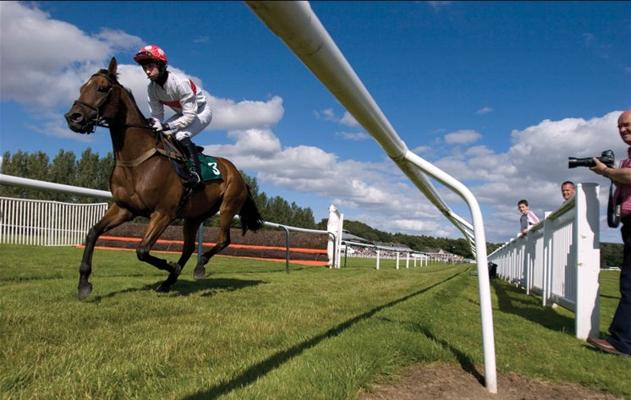person: (140, 46, 213, 184)
